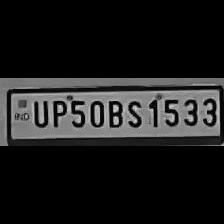0: (86, 96, 106, 128)
1: (144, 96, 160, 128)
3: (198, 93, 218, 127), (180, 94, 200, 125)
5: (66, 96, 86, 128), (160, 95, 180, 127)
B: (104, 96, 124, 128)
P: (48, 96, 68, 128)
S: (124, 96, 144, 128)
U: (29, 96, 49, 128)
